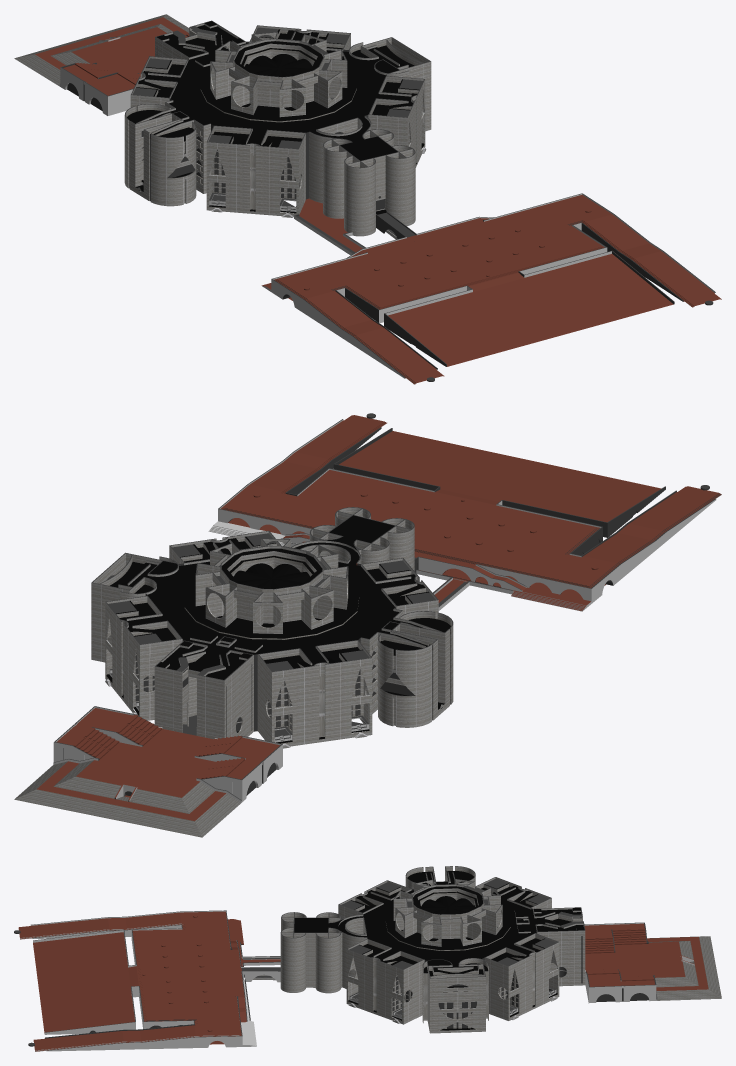
Rendered from Perlament.fbx.
3 views of the same model, one above another, from view 1: azimuth 30°, elevation 25°; view 2: azimuth 150°, elevation 25°; view 3: azimuth 270°, elevation 25° (orthographic). The views are drawn at different scales.
Visible parts, largest first — view 1: Top, Outter, Border, Inner, Bricks, OuterStairs, Stairs; view 2: Top, Outter, Inner, Border, Bricks, OuterStairs, Stairs; view 3: Top, Outter, Inner, Border, Bricks, OuterStairs, Stairs.
Part boxes in pixels (box(x1,y1,x2,y2)): Top: box(63, 21, 721, 384); Outter: box(124, 29, 431, 236); Border: box(60, 20, 715, 384); Inner: box(126, 23, 429, 239); Bricks: box(59, 37, 714, 378); OuterStairs: box(14, 14, 189, 86); Stairs: box(35, 17, 189, 84); Top: box(57, 415, 721, 797); Outter: box(91, 515, 453, 748); Inner: box(93, 507, 451, 737); Border: box(53, 413, 721, 801); Bricks: box(53, 419, 716, 802); OuterStairs: box(14, 760, 240, 837); Stairs: box(37, 714, 245, 821); Top: box(18, 871, 685, 1051); Outter: box(280, 867, 585, 1033); Inner: box(253, 866, 583, 1028); Border: box(14, 866, 657, 1050); Bricks: box(20, 910, 694, 1051); OuterStairs: box(649, 936, 721, 1000); Stairs: box(585, 928, 708, 990).
Bounding box in the file's own units: 359 × 102 × 821.
